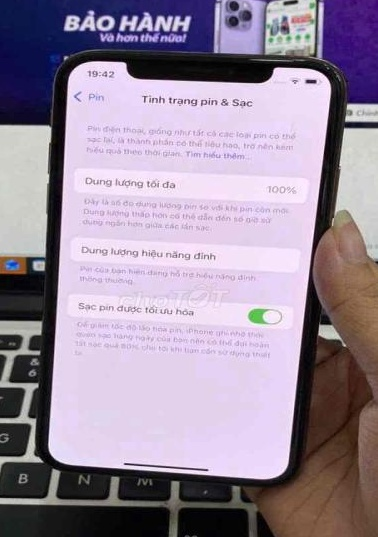scratch: (312, 54, 349, 88)
